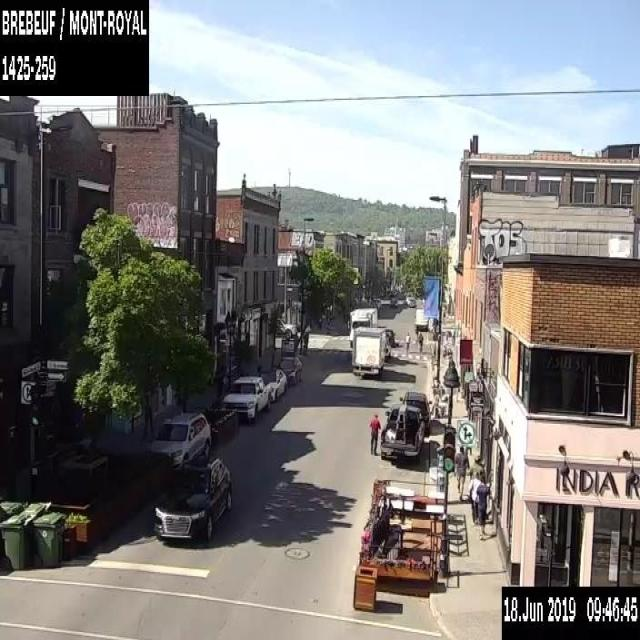cyclist: (416, 331, 424, 356), (404, 331, 409, 358)
pedestrian: (454, 444, 468, 503), (476, 478, 489, 538), (469, 471, 482, 525), (368, 412, 381, 455), (302, 328, 308, 351)
vehicle: (153, 457, 232, 544), (146, 410, 209, 468), (220, 370, 271, 424), (378, 405, 426, 460), (350, 326, 385, 376), (395, 392, 429, 435), (348, 307, 377, 348), (254, 368, 285, 403), (275, 357, 303, 384), (379, 328, 395, 345), (404, 293, 414, 308), (389, 295, 398, 308)
